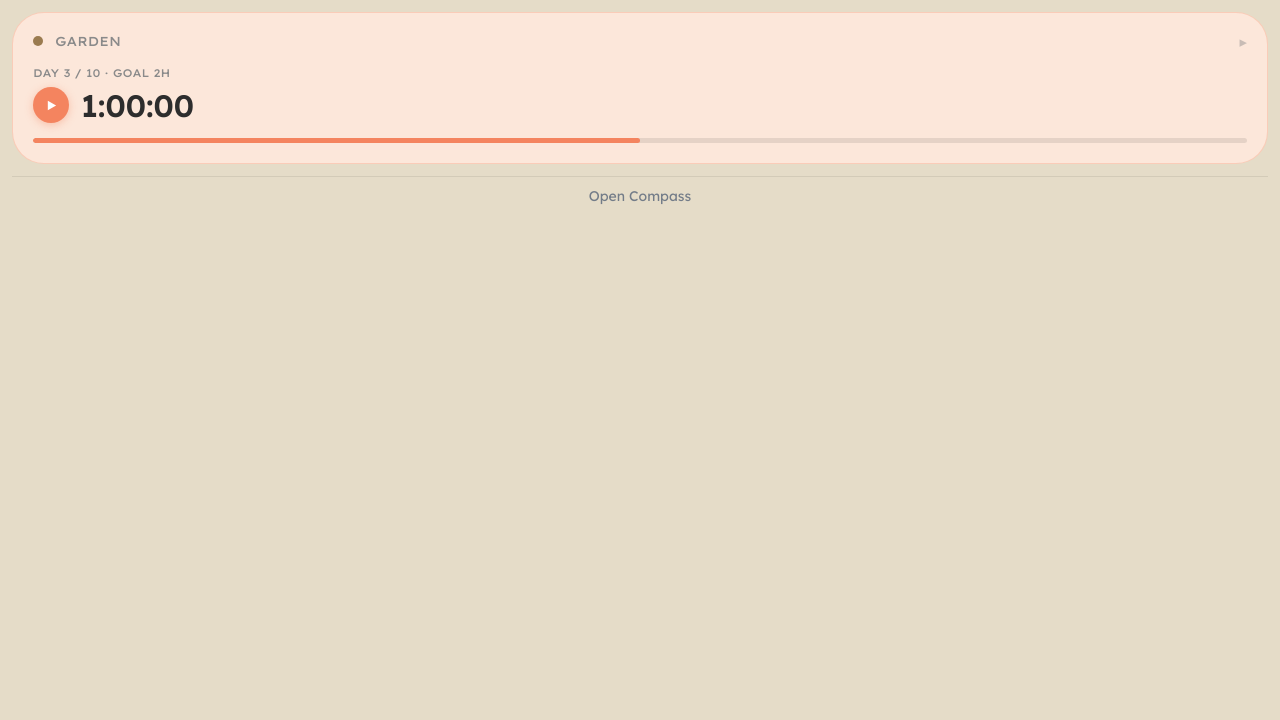
Scenario: the companion's summary › lists the first four open tasks and counts the rest
Click the button "▸" at (1243, 41), box [1240,34,1247,49]
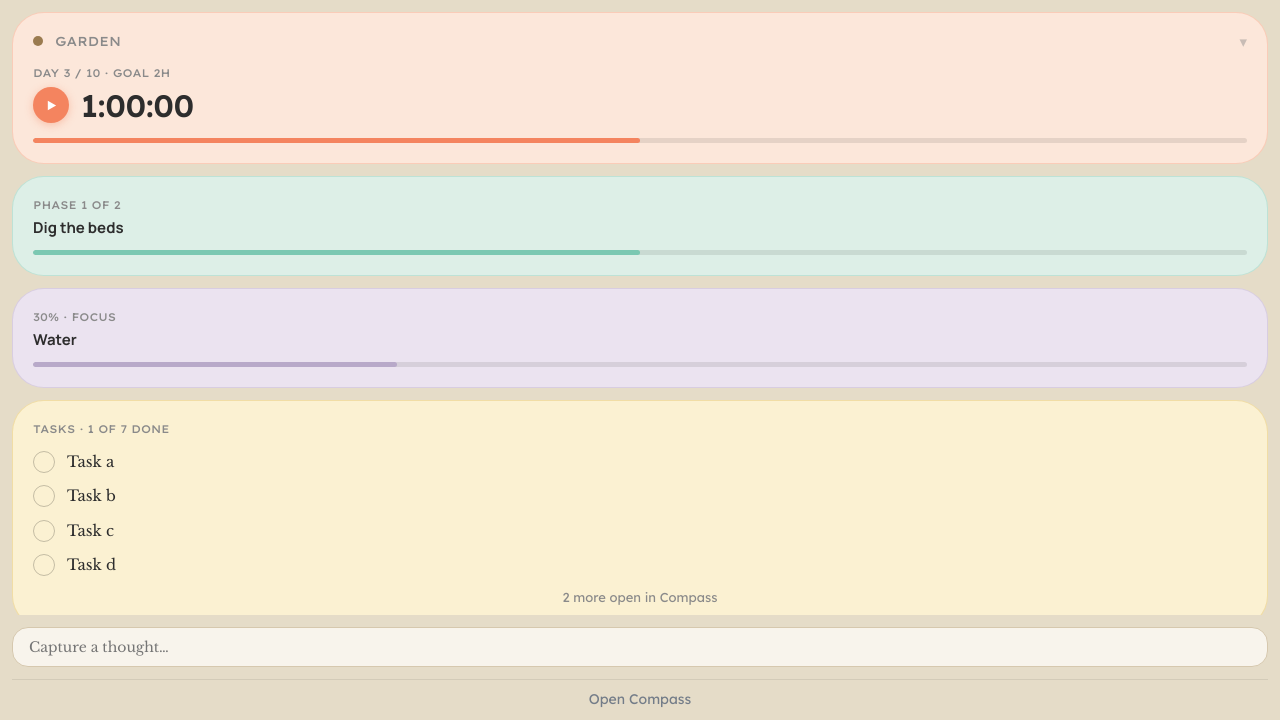
Check: the element with class "companion" shows "2 more open in Compass"
